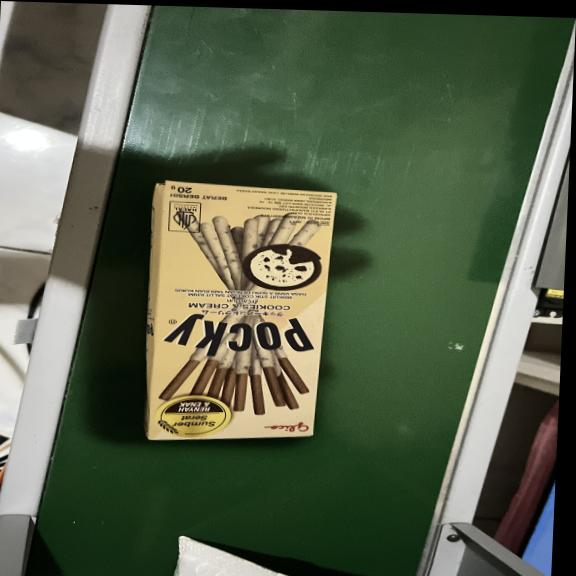Kertas: (131, 178, 340, 438)
